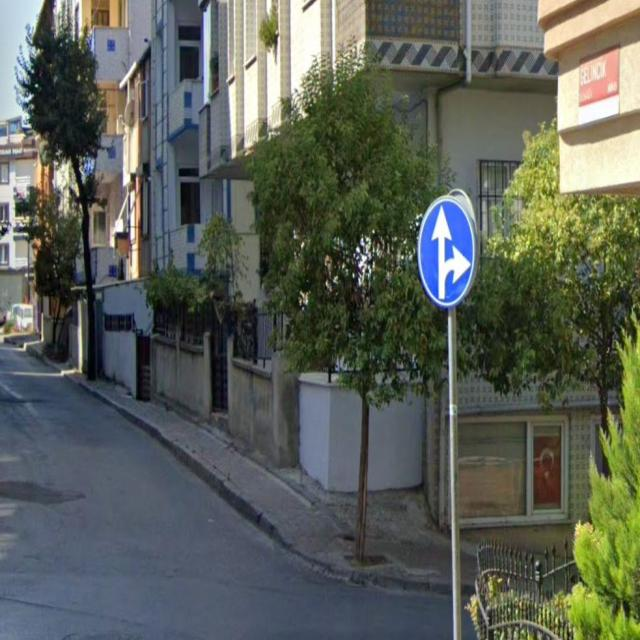ilerisag: (418, 194, 473, 306)
